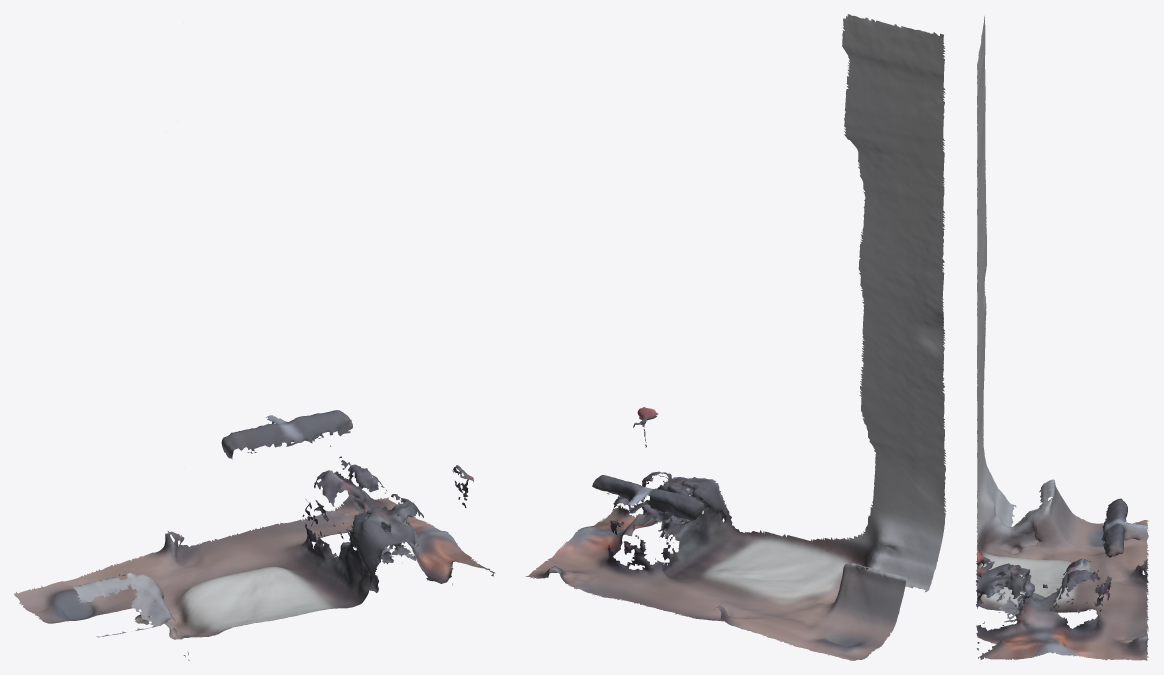
The model's file is apartment-full-26-e52ccebb1f08.glb.
3 renders of one model, left to right at view 1: azimuth 30°, elevation 25°; view 2: azimuth 150°, elevation 25°; view 3: azimuth 270°, elevation 25°, orthographic. The views are drawn at different scales.
Bounding box in the file's own units: 1.21 × 2 × 0.61.
